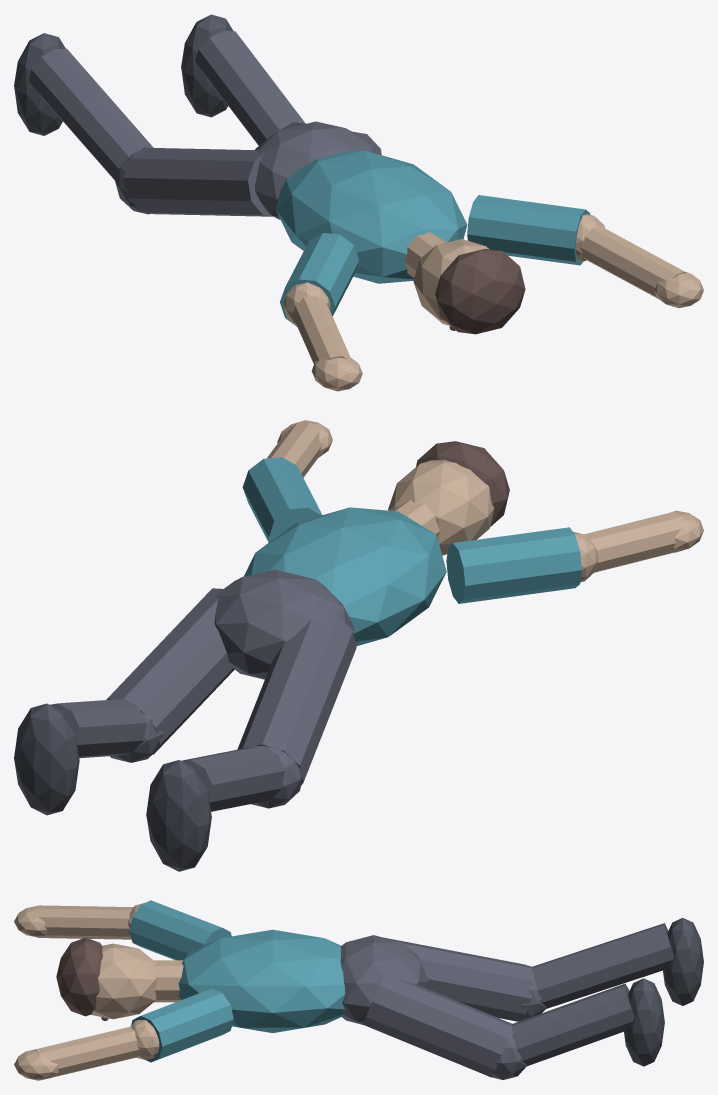
The picture shows the model from 3 angles, top to bottom: view 1: azimuth 30°, elevation 25°; view 2: azimuth 150°, elevation 25°; view 3: azimuth 270°, elevation 25°; orthographic projection. The views are drawn at different scales.
Visible parts, largest first — view 1: world; view 2: world; view 3: world.
Part boxes in pixels (x1,y1,x2,y2): world: [14, 14, 703, 391]; world: [14, 420, 703, 871]; world: [14, 900, 703, 1080].
Bounding box in the file's own units: 1.17 × 0.38 × 2.12.
